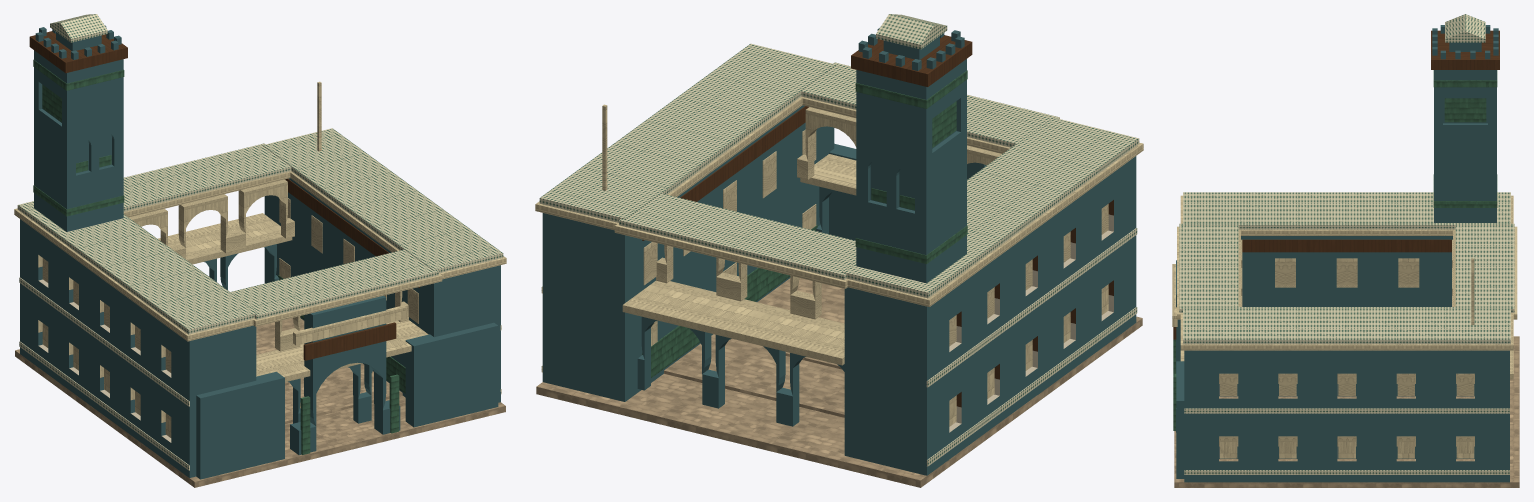
The picture shows the model from 3 angles, left to right: view 1: azimuth 30°, elevation 25°; view 2: azimuth 150°, elevation 25°; view 3: azimuth 270°, elevation 25°; orthographic projection. The views are drawn at different scales.
Parts seen in each view (by area): view 1: garrison_part_0236, garrison_part_0041, garrison_part_0235, garrison_part_0040, garrison_part_0237, garrison_part_0035, garrison_part_0034, garrison_part_0038, garrison_part_0033, garrison_part_0039, garrison_part_0032, garrison_part_0359 (+19 smaller); view 2: garrison_part_0236, garrison_part_0237, garrison_part_0041, garrison_part_0235, garrison_part_0033, garrison_part_0040, garrison_part_0039, garrison_part_0359, garrison_part_0032, garrison_part_0038, garrison_part_0006, garrison_part_0162 (+14 smaller); view 3: garrison_part_0237, garrison_part_0041, garrison_part_0236, garrison_part_0040, garrison_part_0235, garrison_part_0038, garrison_part_0039, garrison_part_0033, garrison_part_0028, garrison_part_0007, garrison_part_0210, garrison_part_0006 (+22 smaller).
Boxes of the visible parts, box(x1,y1,x2,y2) form: garrison_part_0236: box(20, 219, 256, 477); garrison_part_0041: box(262, 128, 503, 273); garrison_part_0235: box(34, 50, 123, 231); garrison_part_0040: box(17, 201, 258, 334); garrison_part_0237: box(264, 178, 500, 402); garrison_part_0035: box(405, 322, 498, 427); garrison_part_0034: box(196, 371, 284, 479); garrison_part_0038: box(230, 249, 438, 319); garrison_part_0033: box(15, 349, 505, 487); garrison_part_0039: box(123, 143, 291, 211); garrison_part_0032: box(256, 318, 402, 423); garrison_part_0359: box(158, 213, 292, 264); garrison_part_0236: box(844, 156, 1136, 475); garrison_part_0237: box(542, 105, 834, 401); garrison_part_0041: box(539, 43, 836, 222); garrison_part_0235: box(856, 59, 966, 283); garrison_part_0033: box(536, 316, 1142, 487); garrison_part_0040: box(842, 117, 1139, 298); garrison_part_0039: box(619, 193, 856, 279); garrison_part_0359: box(622, 280, 844, 365); garrison_part_0032: box(664, 278, 844, 417); garrison_part_0038: box(801, 62, 1059, 147); garrison_part_0006: box(847, 142, 1143, 306); garrison_part_0162: box(851, 35, 972, 86); garrison_part_0237: box(1184, 350, 1509, 482); garrison_part_0041: box(1183, 307, 1510, 344); garrison_part_0236: box(1241, 236, 1452, 306); garrison_part_0040: box(1183, 192, 1510, 229); garrison_part_0235: box(1434, 70, 1496, 222); garrison_part_0038: box(1179, 223, 1238, 312); garrison_part_0039: box(1455, 223, 1514, 312); garrison_part_0033: box(1174, 336, 1519, 487); garrison_part_0028: box(1242, 239, 1451, 252); garrison_part_0007: box(1180, 313, 1513, 350); garrison_part_0210: box(1184, 408, 1509, 413); garrison_part_0006: box(1180, 195, 1513, 235).
Size of the model in its own units: 1435 by 1504 by 1409.
